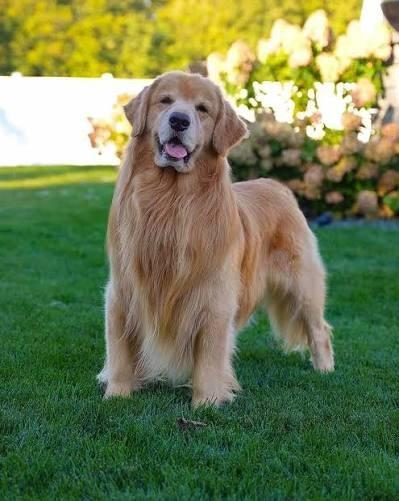adult_dog: (96, 70, 335, 412)
